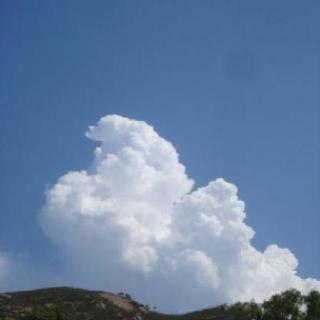Cumulus: (38, 113, 320, 311)
